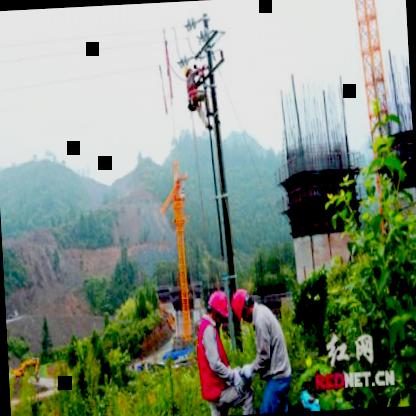helmet: (230, 286, 258, 322), (206, 289, 230, 327)
